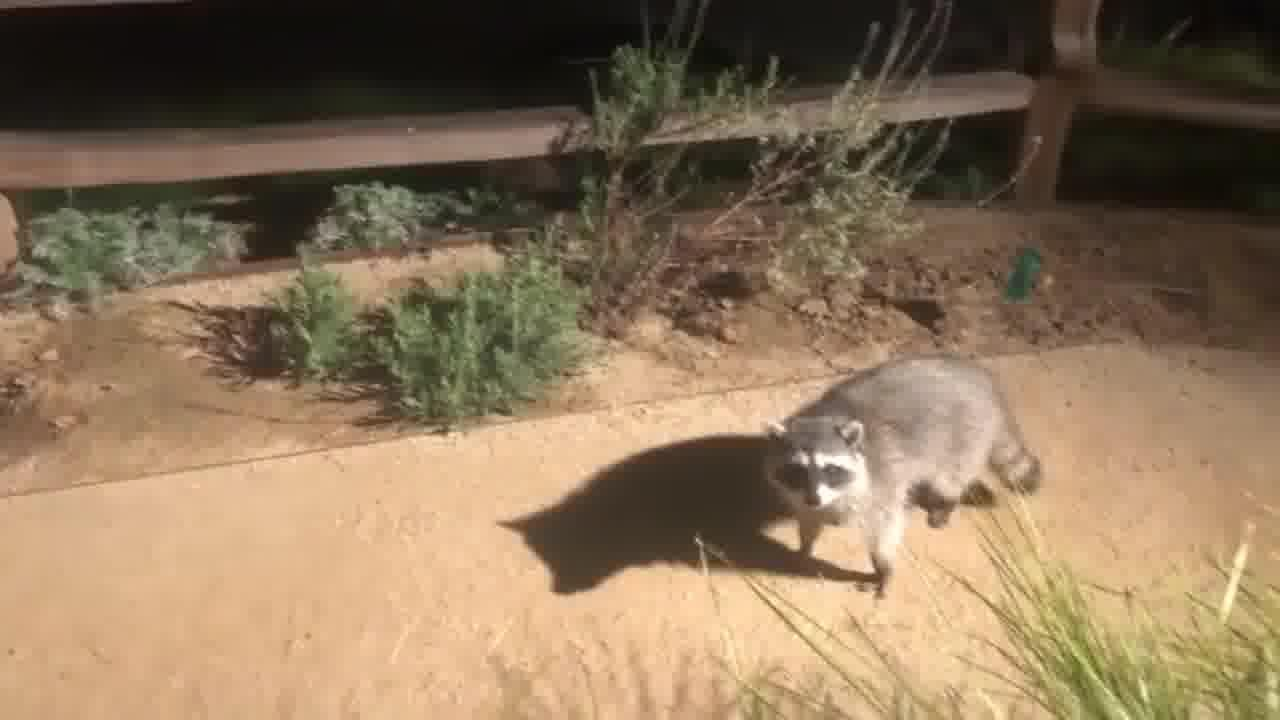raccoon: (762, 352, 1043, 595)
